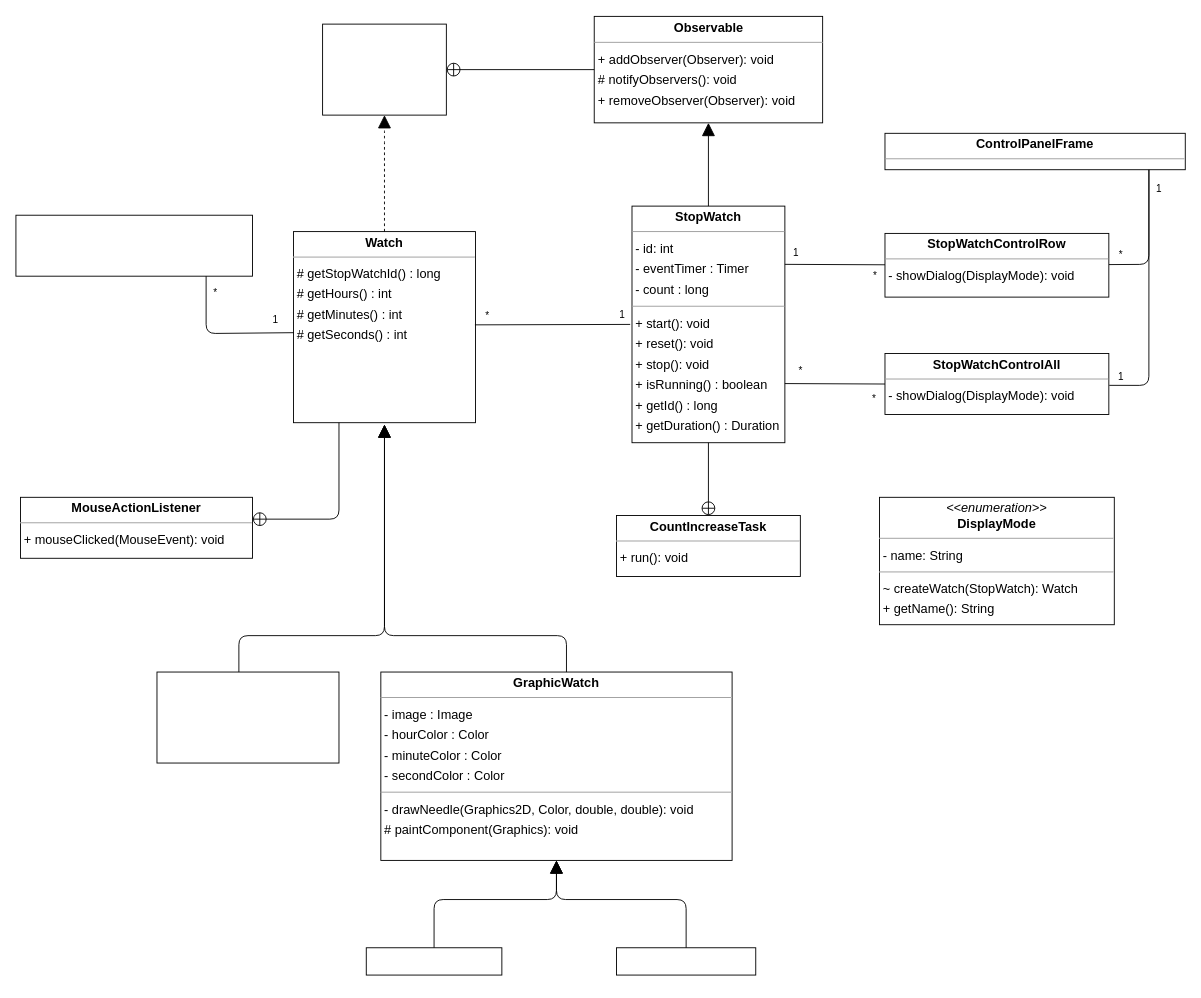
This 1201x998 diagram has some shape labels left out. Here are the shapes that lost their labels. From the top down, the box of each, then its label:
(322, 23, 446, 115): <<interface>> Observer + update(): void + dispose(): void
(15, 214, 253, 276): StopWatchVisualizerFrame + dispose(): void
(156, 671, 339, 763): NumericWatch + update(): void - getFormattedText() : String
(365, 947, 502, 975): ArabicWatch
(616, 947, 756, 975): RomanWatch
